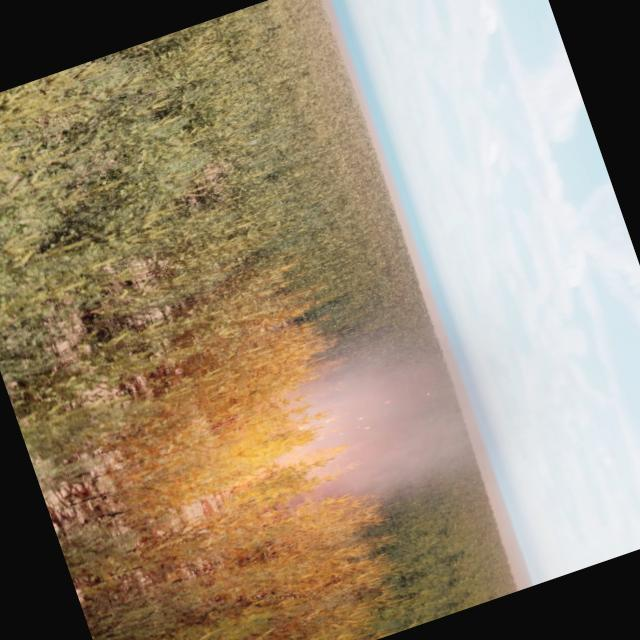fire: (178, 336, 400, 626)
smoke: (258, 326, 482, 534)
